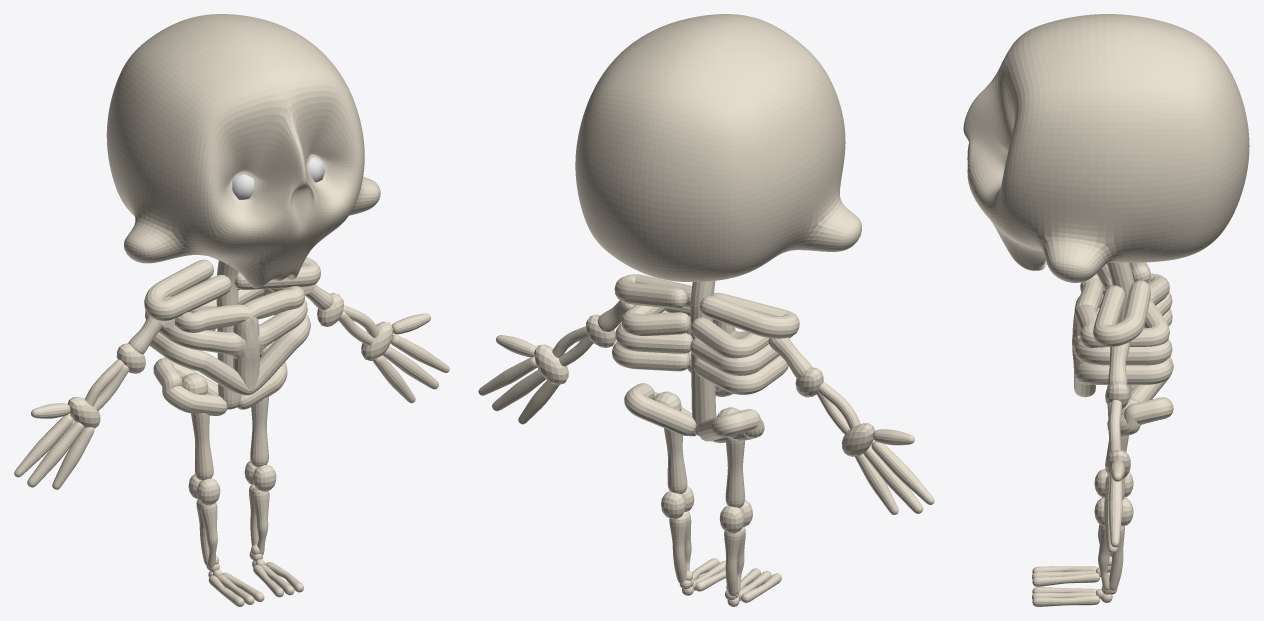
File: LazySkeleboy.fbx
3 renders of one model, left to right at view 1: azimuth 30°, elevation 25°; view 2: azimuth 150°, elevation 25°; view 3: azimuth 270°, elevation 25°, orthographic. The views are drawn at different scales.
Parts seen in each view (by area): view 1: Skull, Cube.007, Eyes; view 2: Skull, Cube.007; view 3: Skull, Cube.007.
Boxes of the visible parts, bbox=[...] form: Skull: bbox=[106, 14, 380, 288]; Cube.007: bbox=[14, 257, 449, 606]; Eyes: bbox=[232, 156, 324, 199]; Skull: bbox=[575, 14, 861, 281]; Cube.007: bbox=[478, 274, 934, 606]; Skull: bbox=[963, 14, 1249, 282]; Cube.007: bbox=[1032, 262, 1173, 606].
Bounding box in the file's own units: 210 × 252 × 116.
